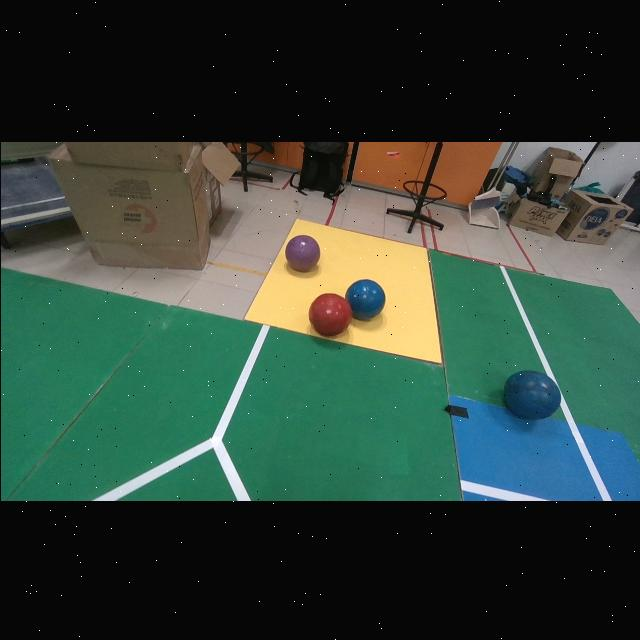B: (503, 370, 560, 418), (345, 277, 384, 319)
P: (284, 233, 319, 270)
R: (308, 291, 351, 335)
